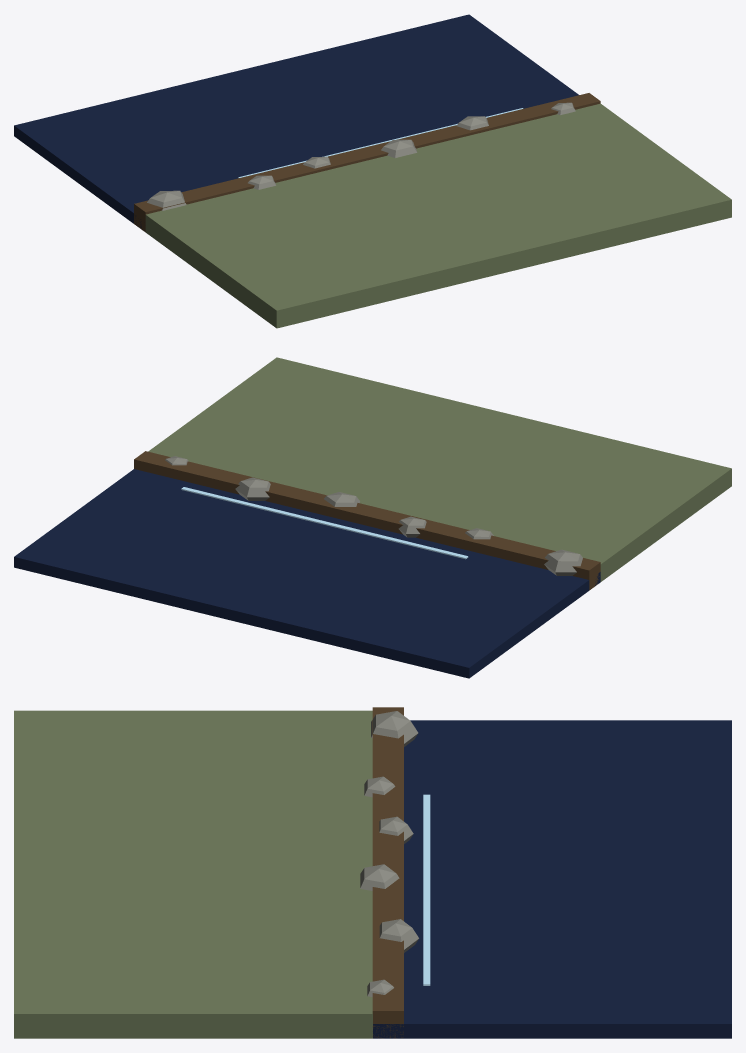
Rendered from br_shore.glb.
3 views of the same model, one above another, from view 1: azimuth 30°, elevation 25°; view 2: azimuth 150°, elevation 25°; view 3: azimuth 270°, elevation 25° (orthographic). The views are drawn at different scales.
Parts seen in each view (by area): view 1: br_shore; view 2: br_shore; view 3: br_shore.
Boxes of the visible parts, left/top/right/bottom form: br_shore: left=14, top=14, right=731, bottom=328; br_shore: left=14, top=357, right=731, bottom=678; br_shore: left=14, top=707, right=731, bottom=1038.
Bounding box in the file's own units: 8 × 0.472 × 8.
